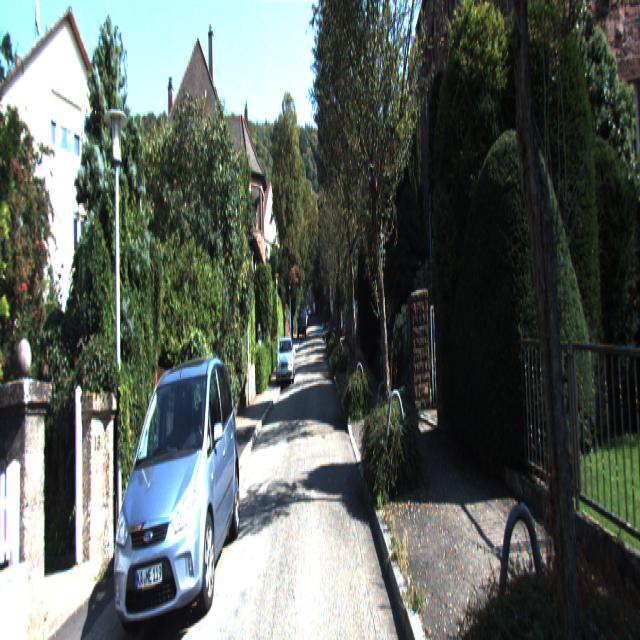Car: (105, 345, 241, 638), (276, 336, 295, 389)
